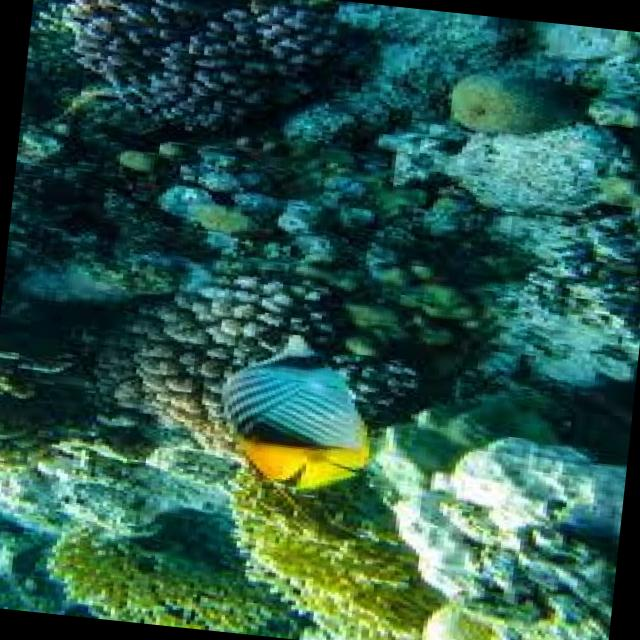ButterflyFish: (200, 316, 370, 501)
